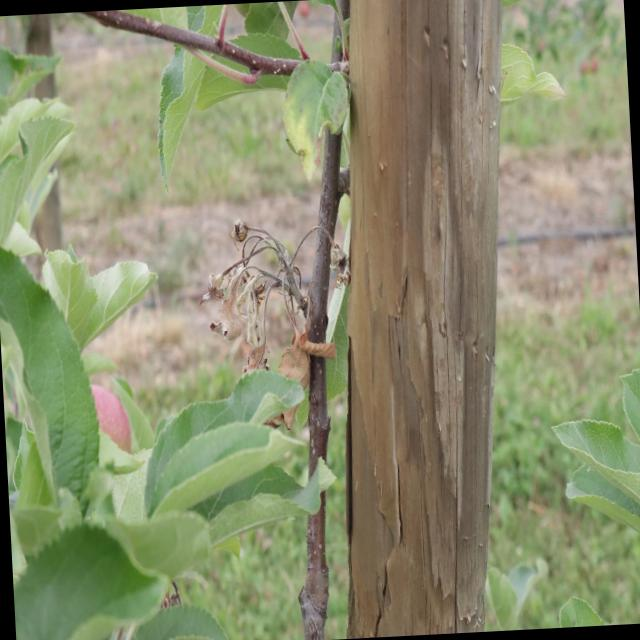-FireBlight-: (216, 229, 329, 404)
